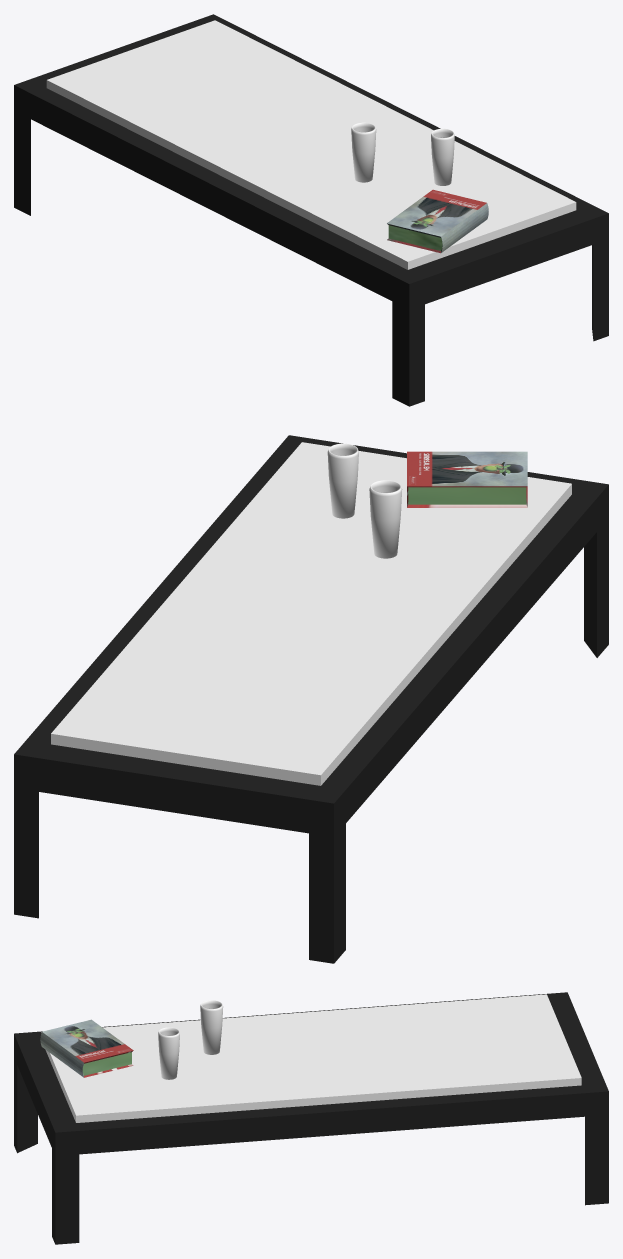
The model's file is Table.glb.
The picture shows the model from 3 angles, top to bottom: view 1: azimuth 30°, elevation 25°; view 2: azimuth 150°, elevation 25°; view 3: azimuth 270°, elevation 25°; orthographic projection. The views are drawn at different scales.
Parts seen in each view (by area): view 1: tafel, boektafel, glas 2, glas; view 2: tafel, boektafel, glas 2, glas; view 3: tafel, boektafel, glas 2, glas.
Part boxes in pixels (left/top/right/bottom): tafel: left=14, top=14, right=608, bottom=406; boektafel: left=387, top=189, right=488, bottom=253; glas 2: left=351, top=122, right=376, bottom=182; glas: left=431, top=128, right=454, bottom=185; tafel: left=14, top=435, right=608, bottom=963; boektafel: left=407, top=451, right=527, bottom=507; glas 2: left=369, top=480, right=402, bottom=558; glas: left=327, top=443, right=358, bottom=518; tafel: left=14, top=992, right=608, bottom=1244; boektafel: left=40, top=1019, right=133, bottom=1077; glas 2: left=200, top=1000, right=223, bottom=1054; glas: left=158, top=1027, right=179, bottom=1079.
Size of the model in its own units: 1.71 by 0.9563 by 3.06.
5 materials, 1 textured.
